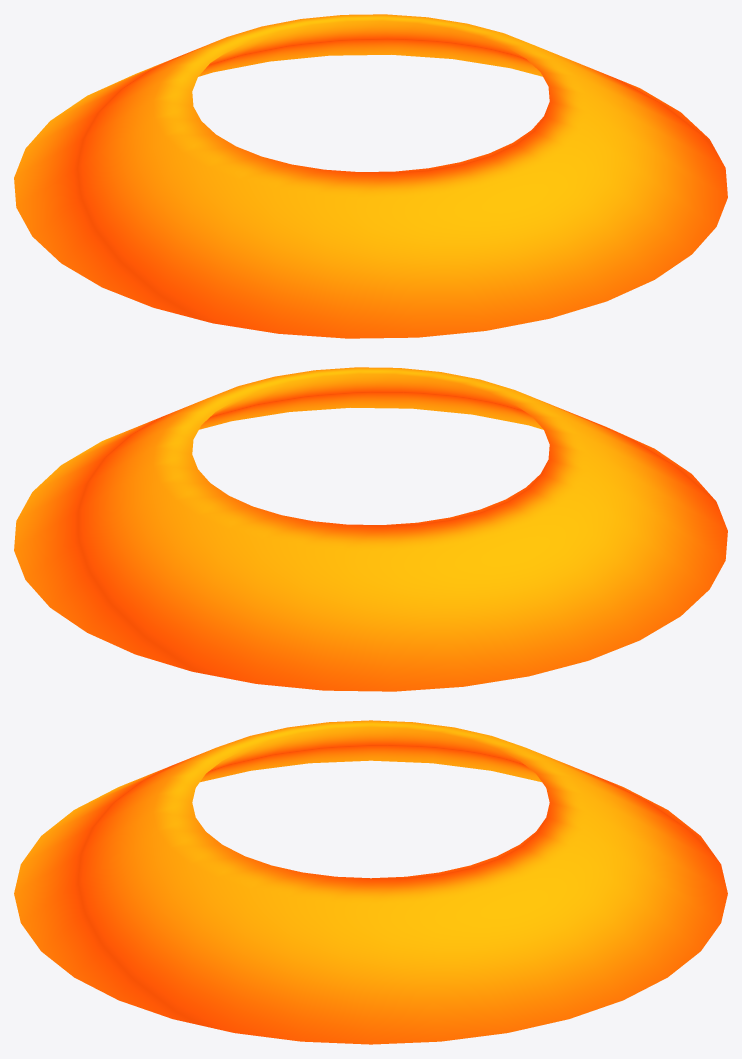
Rendered from p_trashbot_goo_projectile_large_base_pose0.fbx.
The picture shows the model from 3 angles, top to bottom: view 1: azimuth 30°, elevation 25°; view 2: azimuth 150°, elevation 25°; view 3: azimuth 270°, elevation 25°; orthographic projection.
Visible parts, largest first — view 1: Splash1_pose1; view 2: Splash1_pose1; view 3: Splash1_pose1.
Part boxes in pixels (box(x1,y1,x2,y2)): Splash1_pose1: box(14, 14, 727, 338); Splash1_pose1: box(14, 367, 727, 691); Splash1_pose1: box(14, 720, 727, 1044).
Size of the model in its own units: 12.35 by 1.74 by 12.35.
